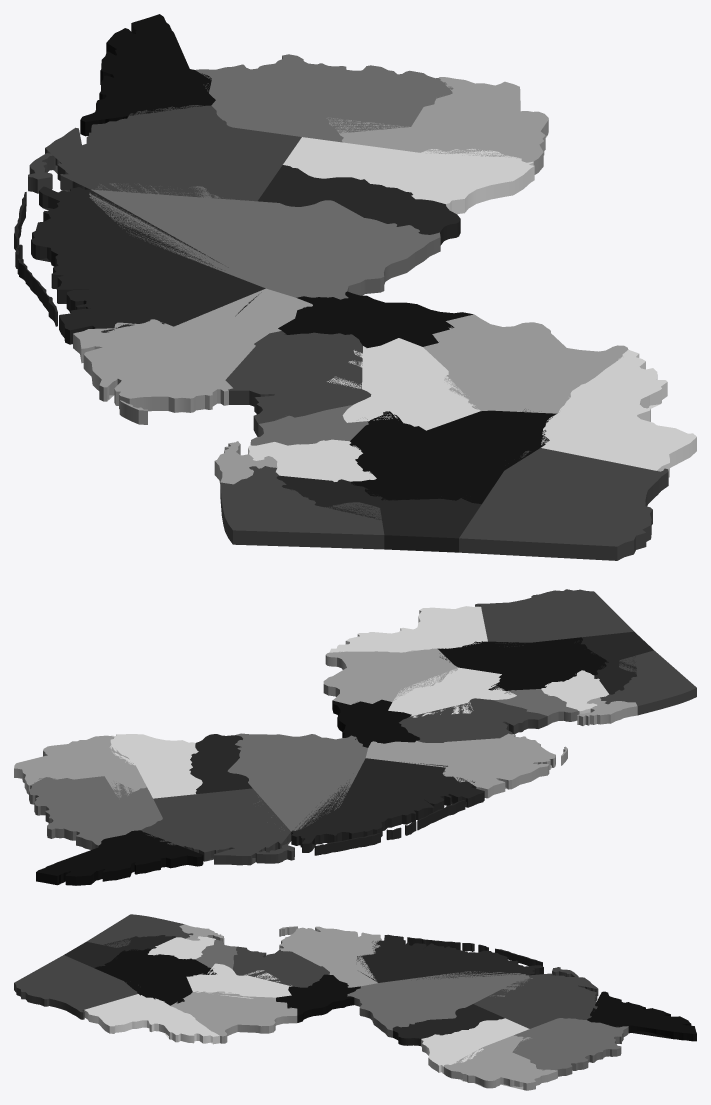
The model's file is New_Jersey_Counties_3D.fbx.
The picture shows the model from 3 angles, top to bottom: view 1: azimuth 30°, elevation 25°; view 2: azimuth 150°, elevation 25°; view 3: azimuth 270°, elevation 25°; orthographic projection. The views are drawn at different scales.
Visible parts, largest first — view 1: NJ_Burlington_County_3D, NJ_Ocean_County_3D, NJ_Atlantic_County_3D, NJ_Sussex_County_3D, NJ_Monmouth_County_3D, NJ_Cumberland_County_3D, NJ_Morris_County_3D, NJ_Hunterdon_County_3D, NJ_Warren_County_3D, NJ_Gloucester_County_3D, NJ_Salem_County_3D, NJ_Middlesex_County_3D (+9 smaller); view 2: NJ_Ocean_County_3D, NJ_Burlington_County_3D, NJ_Atlantic_County_3D, NJ_Cumberland_County_3D, NJ_Monmouth_County_3D, NJ_Sussex_County_3D, NJ_Morris_County_3D, NJ_Hunterdon_County_3D, NJ_Cape_May_County_3D, NJ_Salem_County_3D, NJ_Middlesex_County_3D, NJ_Warren_County_3D (+9 smaller); view 3: NJ_Burlington_County_3D, NJ_Ocean_County_3D, NJ_Atlantic_County_3D, NJ_Cumberland_County_3D, NJ_Sussex_County_3D, NJ_Hunterdon_County_3D, NJ_Monmouth_County_3D, NJ_Warren_County_3D, NJ_Morris_County_3D, NJ_Salem_County_3D, NJ_Cape_May_County_3D, NJ_Gloucester_County_3D (+9 smaller).
Boxes of the visible parts, x1,y1,x2,y2 form: NJ_Burlington_County_3D: (89,183,440,299); NJ_Ocean_County_3D: (14,186,265,344); NJ_Atlantic_County_3D: (28,105,301,201); NJ_Sussex_County_3D: (459,448,668,560); NJ_Monmouth_County_3D: (73,288,312,424); NJ_Cumberland_County_3D: (195,54,453,142); NJ_Morris_County_3D: (349,409,556,504); NJ_Hunterdon_County_3D: (423,314,628,413); NJ_Warren_County_3D: (541,349,696,477); NJ_Gloucester_County_3D: (283,137,534,213); NJ_Salem_County_3D: (326,77,548,174); NJ_Middlesex_County_3D: (225,331,371,436); NJ_Ocean_County_3D: (291,758,484,855); NJ_Burlington_County_3D: (227,733,367,831); NJ_Atlantic_County_3D: (141,788,294,865); NJ_Cumberland_County_3D: (29,776,162,849); NJ_Monmouth_County_3D: (365,733,567,798); NJ_Sussex_County_3D: (475,589,633,646); NJ_Morris_County_3D: (437,637,608,690); NJ_Hunterdon_County_3D: (323,648,458,704); NJ_Cape_May_County_3D: (36,830,203,885); NJ_Salem_County_3D: (14,735,146,797); NJ_Middlesex_County_3D: (399,698,547,742); NJ_Warren_County_3D: (329,606,487,652); NJ_Burlington_County_3D: (347,971,532,1037); NJ_Ocean_County_3D: (356,934,543,982); NJ_Atlantic_County_3D: (473,967,598,1028); NJ_Cumberland_County_3D: (512,1018,628,1076); NJ_Sussex_County_3D: (14,955,138,1019); NJ_Hunterdon_County_3D: (170,991,297,1043); NJ_Monmouth_County_3D: (279,926,381,987); NJ_Warren_County_3D: (84,994,219,1044); NJ_Morris_County_3D: (94,948,216,1005); NJ_Salem_County_3D: (444,1035,557,1090); NJ_Cape_May_County_3D: (587,991,696,1041); NJ_Gloucester_County_3D: (421,1018,529,1073).
Size of the model in its own units: 489 by 10 by 835.
